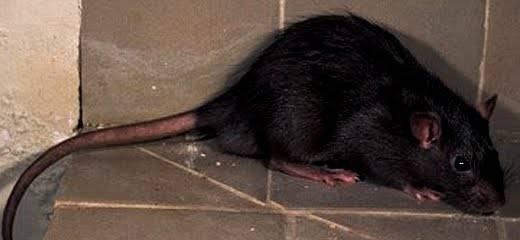rat: (92, 8, 518, 220)
